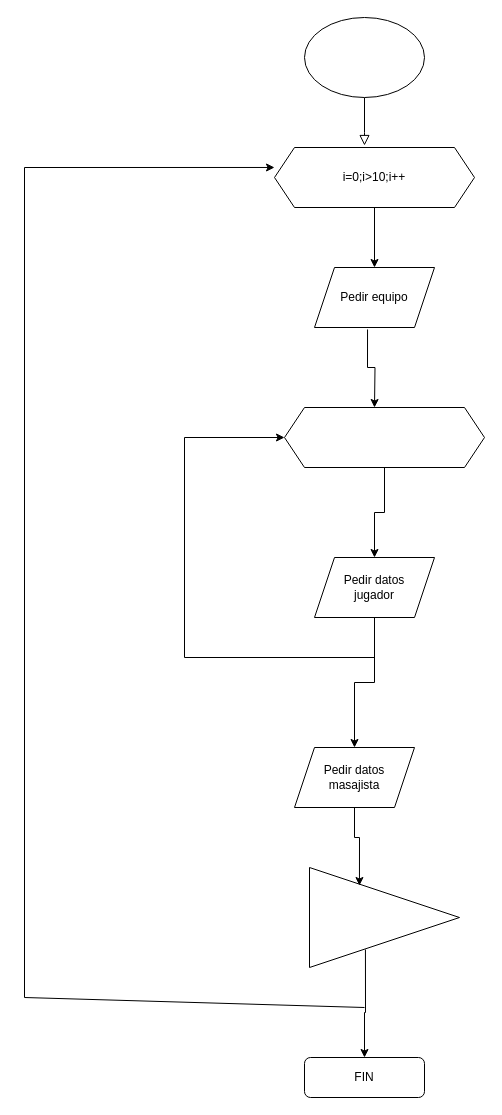
The diagram is 502 pixels wide and 1115 high, and some of its shapes have lost their labels. Each missing label, with the centre of its shape:
INICIO: (x=364, y=57)
j=0;j>22;j++: (x=384, y=437)
Mostrar datos equipo: (x=384, y=917)
